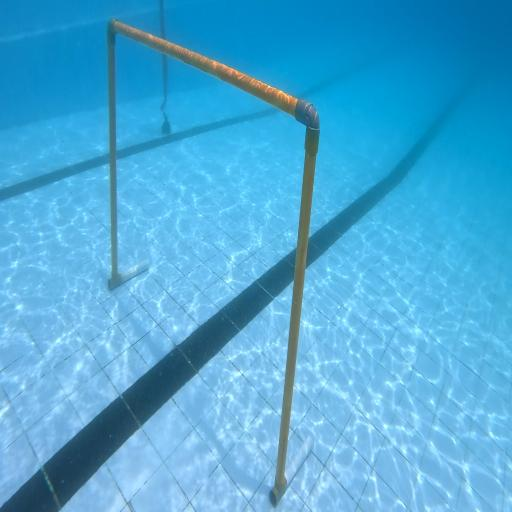gate: (108, 18, 320, 507)
